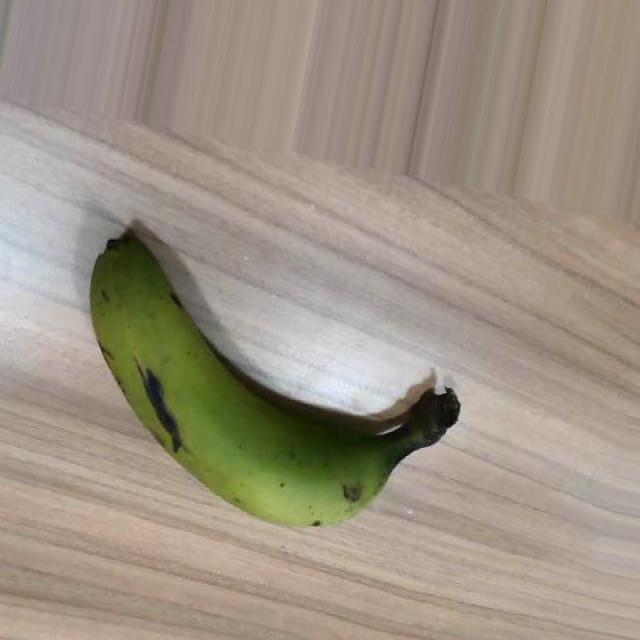Unripe: (89, 228, 463, 526)
